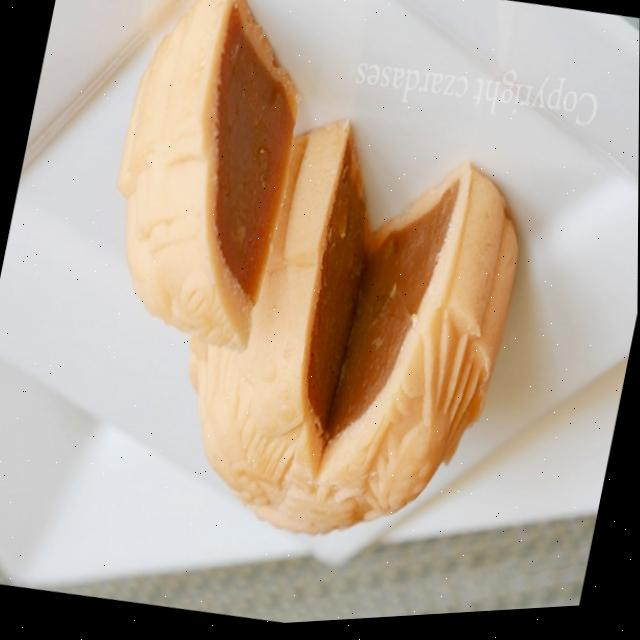蛋糕甜品: (21, 0, 589, 605)
